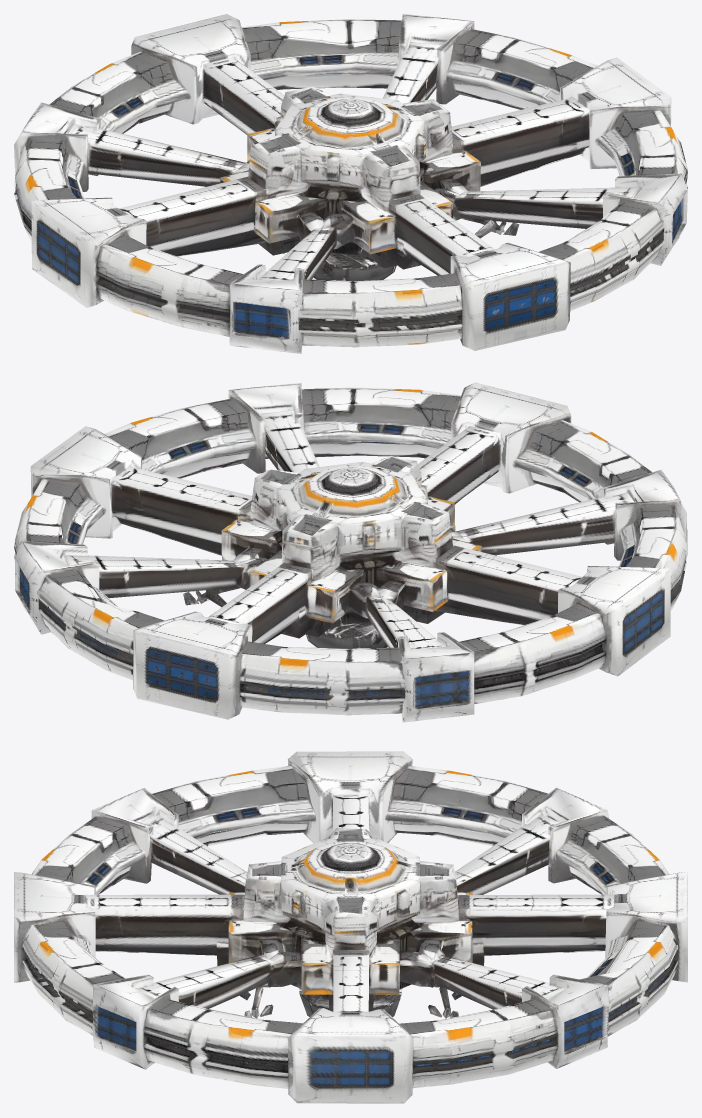
Rendered from station_3.glb.
The picture shows the model from 3 angles, top to bottom: view 1: azimuth 30°, elevation 25°; view 2: azimuth 150°, elevation 25°; view 3: azimuth 270°, elevation 25°; orthographic projection.
Parts seen in each view (by area): view 1: mesh_node; view 2: mesh_node; view 3: mesh_node.
Part boxes in pixels (x1,y1,x2,y2): mesh_node: [14, 14, 687, 353]; mesh_node: [14, 382, 687, 722]; mesh_node: [14, 751, 687, 1103].
Size of the model in its own units: 0.998 by 0.2647 by 1.
Materials: 1 (1 with a texture image).
